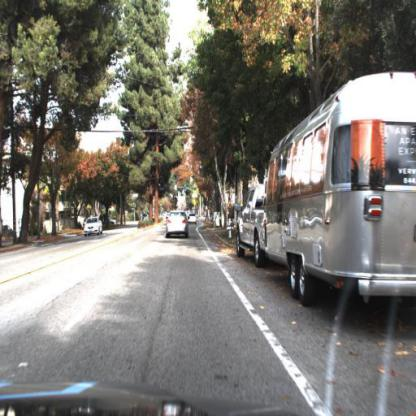car: (157, 204, 195, 246), (79, 209, 107, 242), (82, 213, 105, 240), (185, 206, 200, 227)
truck: (232, 67, 416, 325)
